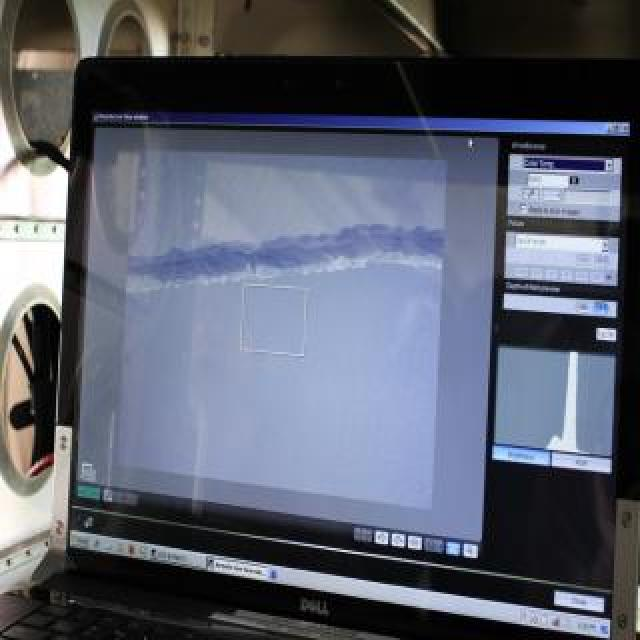laptop_computer: (58, 30, 628, 640)
